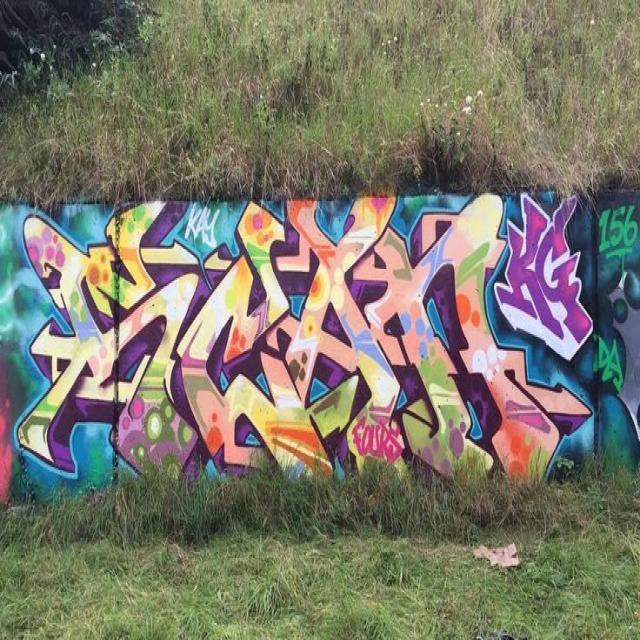-: (16, 198, 596, 480), (494, 197, 592, 365), (598, 205, 638, 262), (596, 336, 624, 393)
